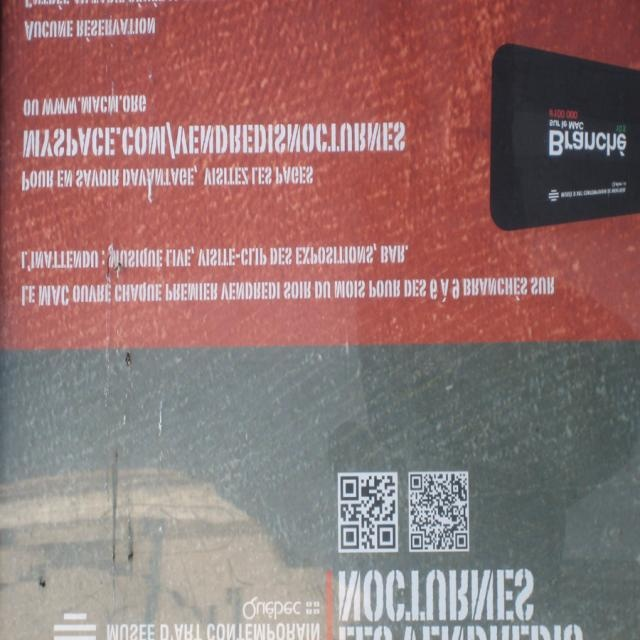qr-code: (410, 474, 468, 550), (340, 476, 396, 549)
